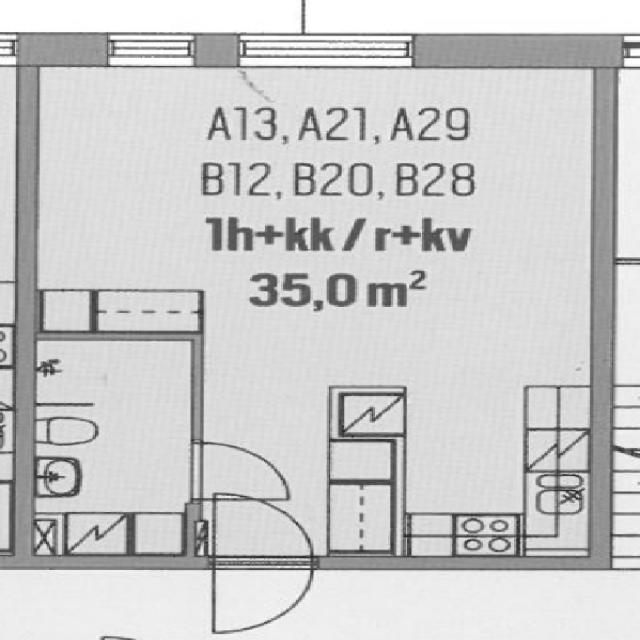door: (31, 63, 608, 334), (315, 382, 601, 568), (20, 335, 199, 558)
window: (232, 30, 412, 66), (98, 26, 214, 67)
zone: (198, 487, 326, 640), (171, 435, 296, 503)
